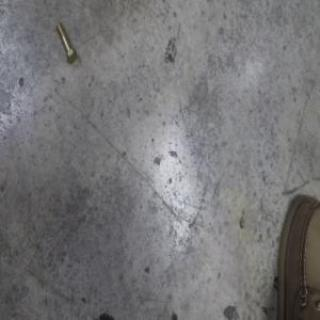Bolttrack_idkeyframe: (54, 21, 76, 65)
